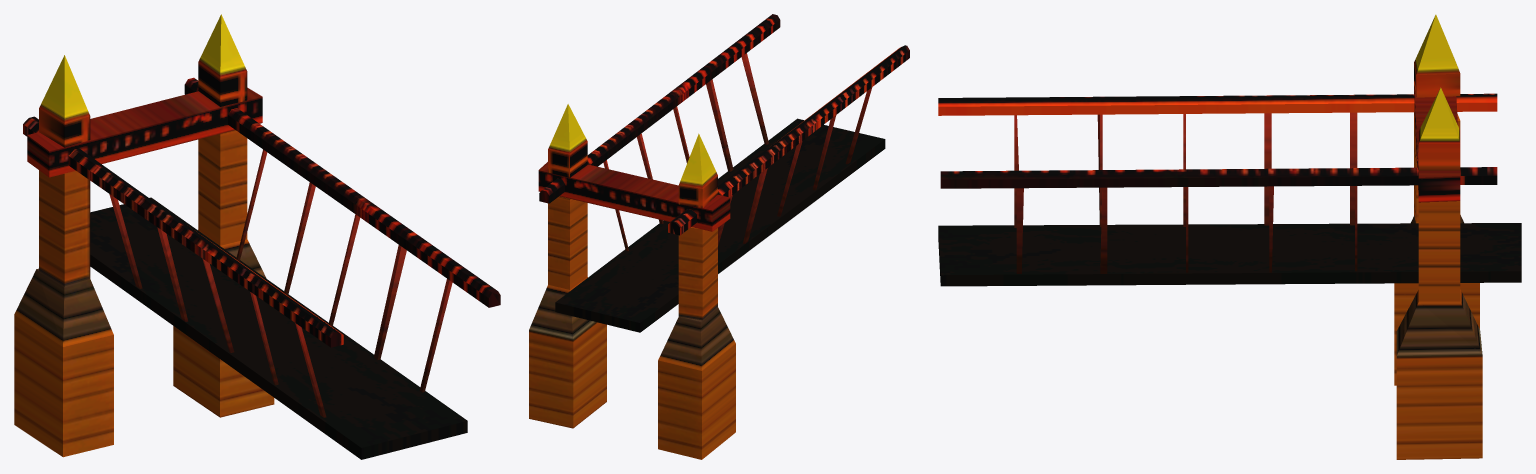
Rendered from Citybrdg.glb.
3 renders of one model, left to right at view 1: azimuth 30°, elevation 25°; view 2: azimuth 150°, elevation 25°; view 3: azimuth 270°, elevation 25°, orthographic. The views are drawn at different scales.
Visible parts, largest first — view 1: Citybrdg; view 2: Citybrdg; view 3: Citybrdg.
Part boxes in pixels (box(x1,y1,x2,y2)): Citybrdg: box(14, 14, 500, 459); Citybrdg: box(529, 14, 909, 459); Citybrdg: box(938, 14, 1521, 459).
Bounding box in the file's own units: 174 × 293 × 432.
Materials: 1 (1 with a texture image).
